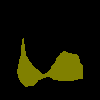reggiseno: (17, 37, 83, 87)
